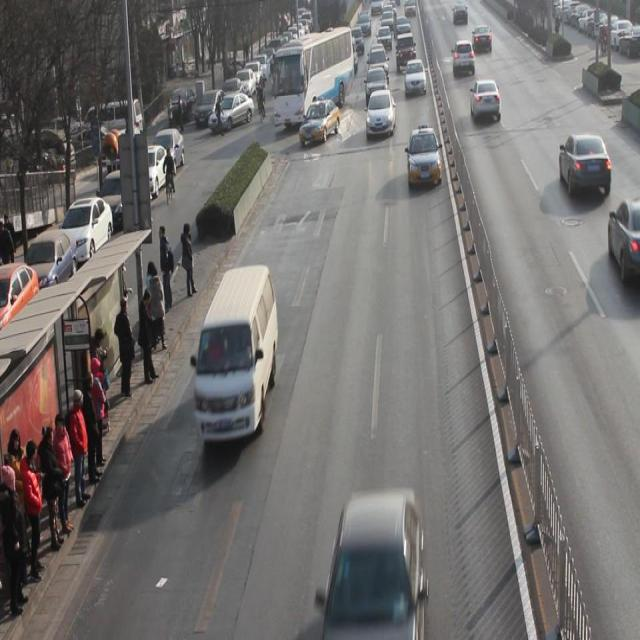car: (320, 487, 424, 640), (559, 132, 613, 196), (608, 198, 640, 285), (407, 124, 443, 188), (298, 99, 341, 146), (365, 88, 396, 140), (470, 77, 501, 123), (366, 66, 389, 107), (453, 38, 476, 78), (404, 57, 427, 96), (395, 32, 417, 72), (368, 46, 389, 83)
truck: (194, 264, 279, 447)
van: (272, 28, 353, 128)
